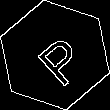P_NW: (23, 24, 87, 86)
